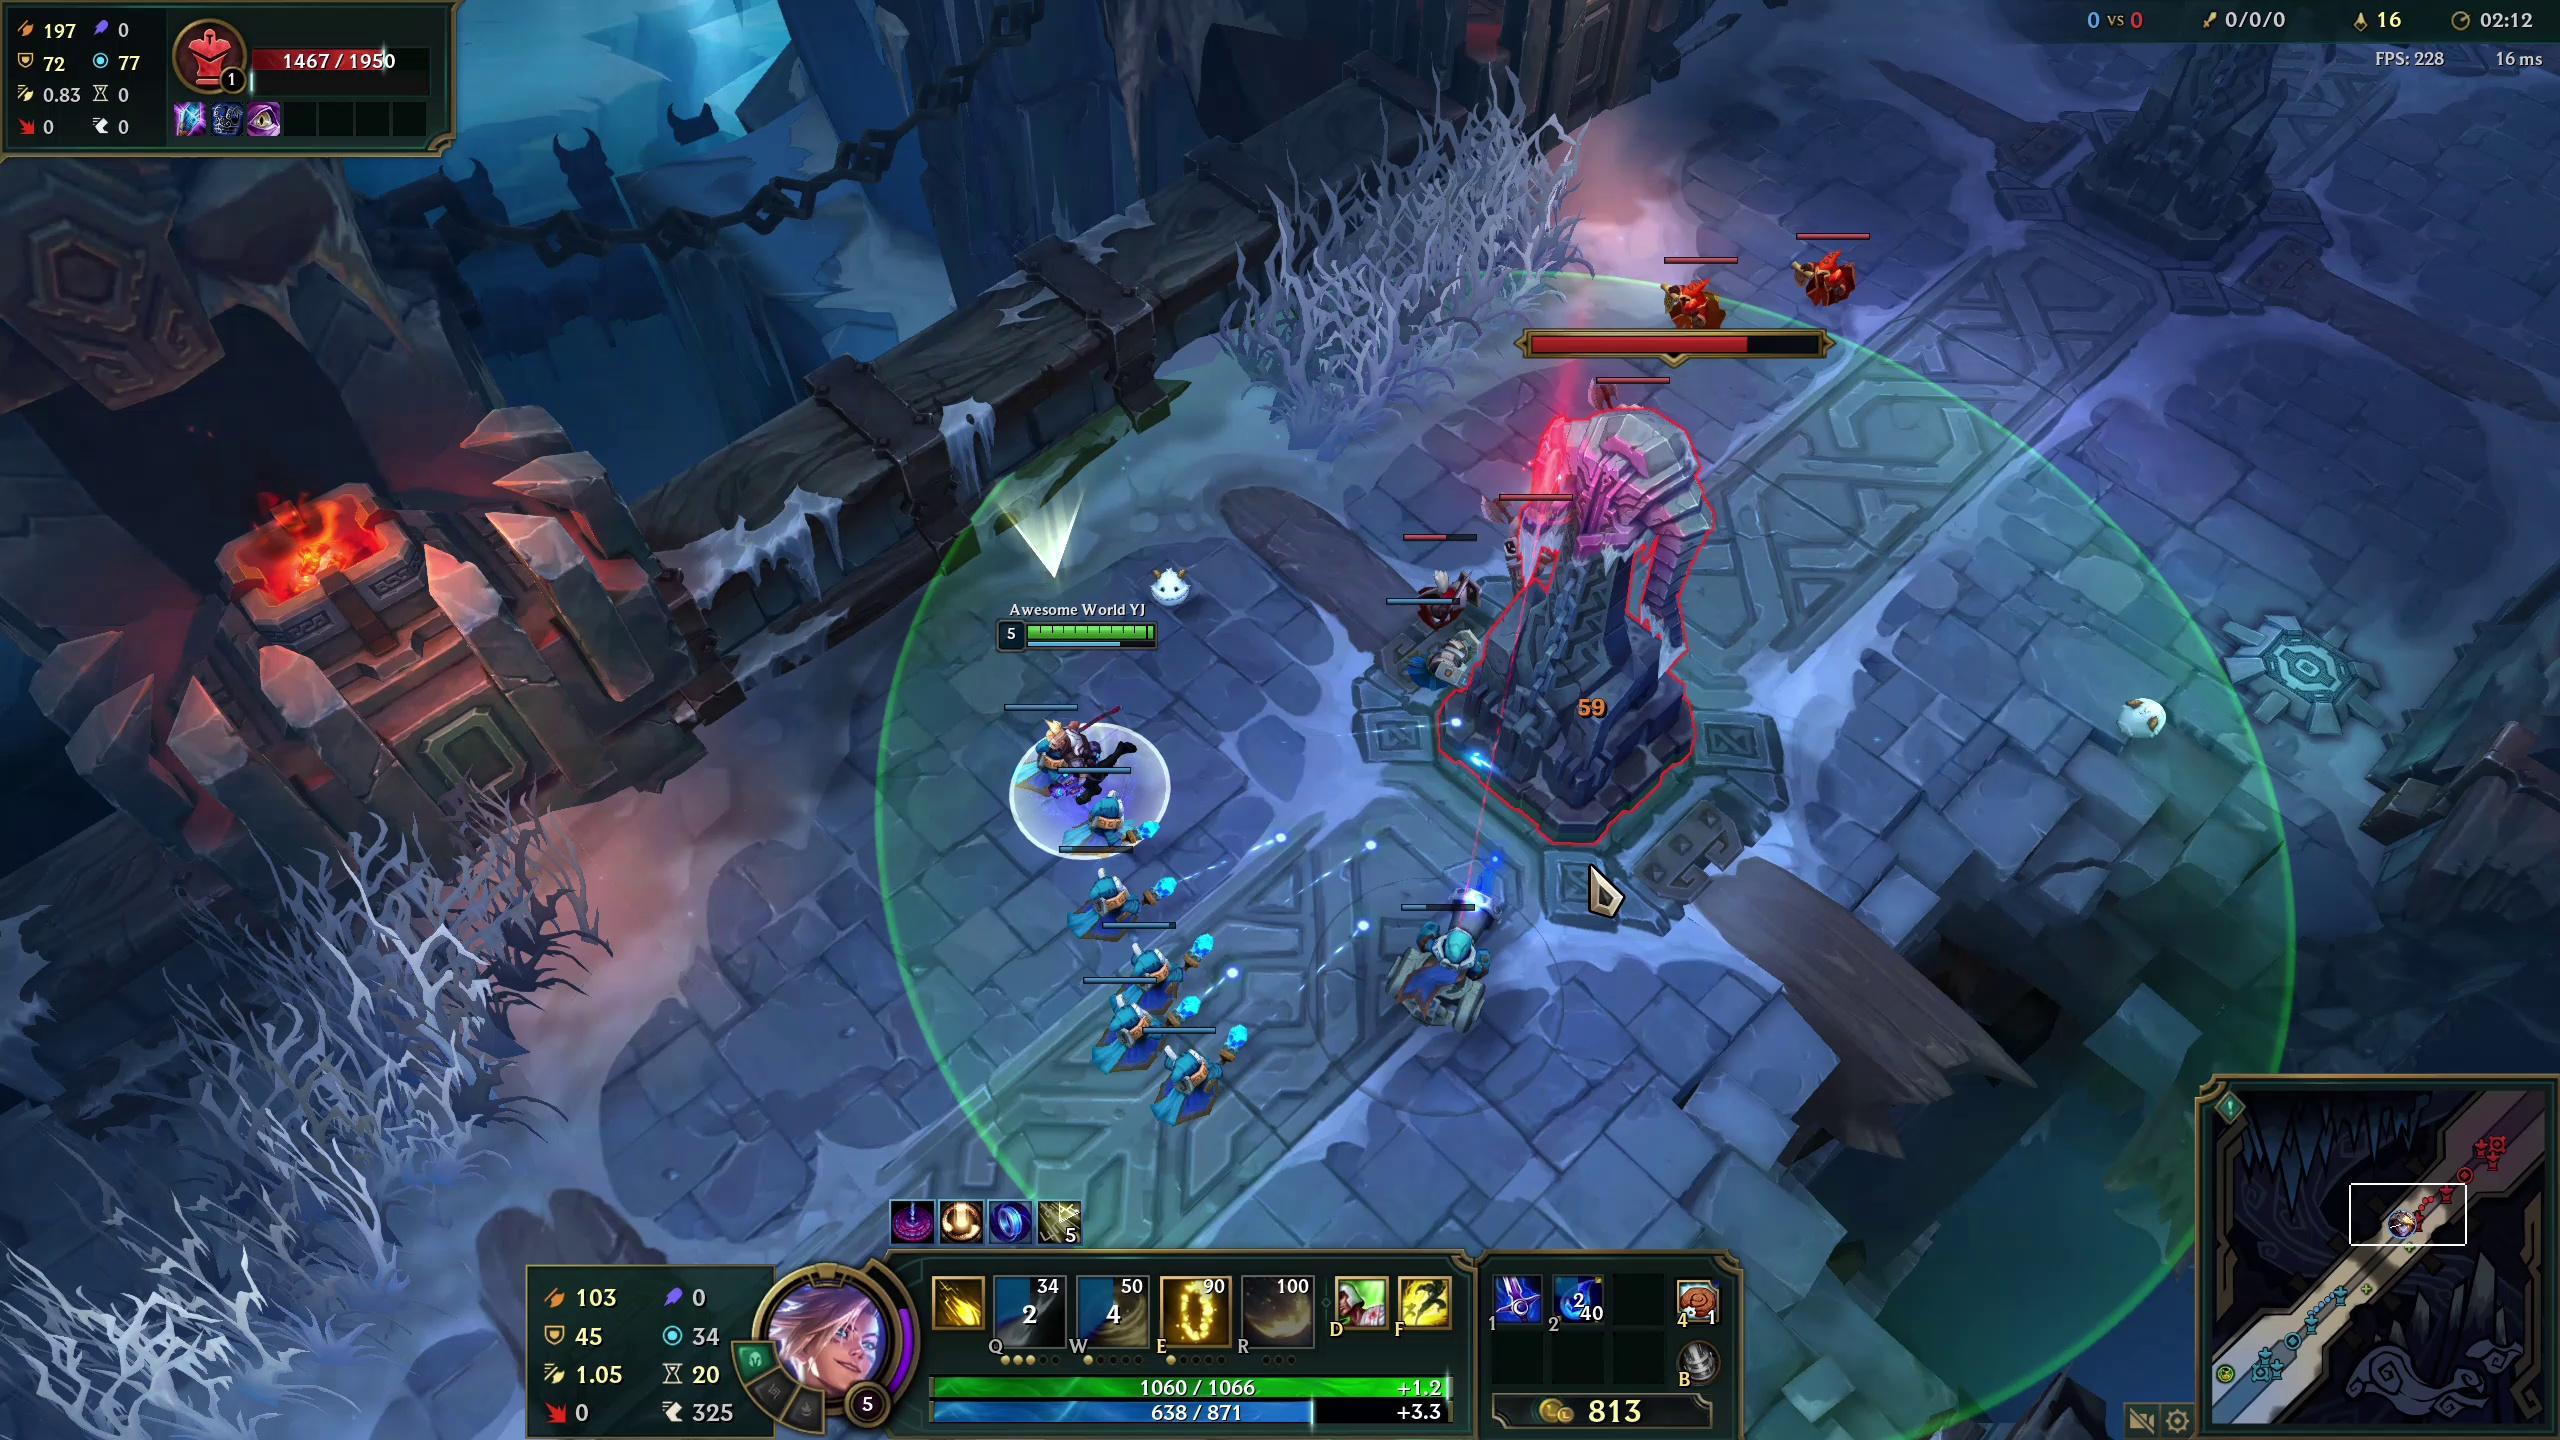EZ: (1022, 600, 1178, 826)
EnemyMinion: (1380, 513, 1487, 628), (1772, 209, 1880, 324), (1655, 244, 1760, 357)
Glass: (269, 876, 524, 1131), (1282, 174, 1542, 382), (107, 1299, 376, 1440)
MyMinion: (1041, 840, 1160, 944), (1073, 965, 1190, 1069), (1092, 914, 1210, 1018), (964, 698, 1081, 802), (1125, 1022, 1245, 1124), (1363, 593, 1482, 695), (1046, 758, 1166, 860)
MySuperMinnion: (1384, 891, 1496, 1044)
Turret: (1473, 424, 1753, 860), (2085, 33, 2324, 281)
